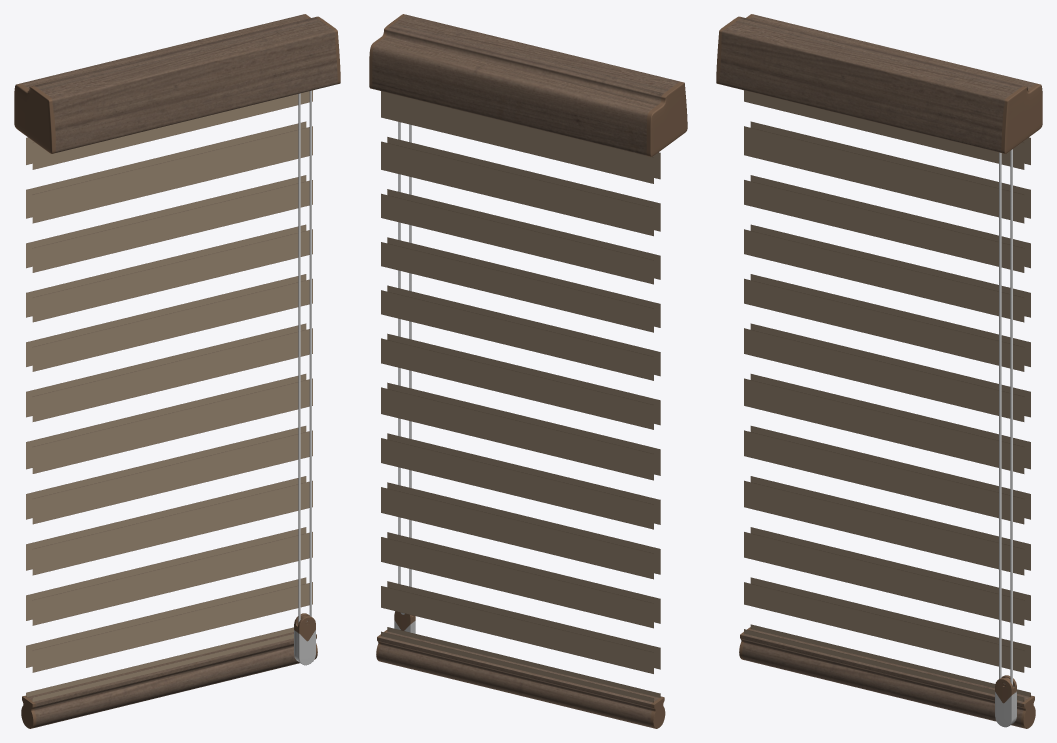
File: curtain_02_15.001.fbx
The picture shows the model from 3 angles, left to right: view 1: azimuth 30°, elevation 25°; view 2: azimuth 150°, elevation 25°; view 3: azimuth 330°, elevation 25°; orthographic projection. The views are drawn at different scales.
Visible parts, largest first — view 1: curtain_02_15.001; view 2: curtain_02_15.001; view 3: curtain_02_15.001.
Part boxes in pixels (left/top/right/bottom): curtain_02_15.001: left=14, top=14, right=340, bottom=728; curtain_02_15.001: left=369, top=14, right=687, bottom=728; curtain_02_15.001: left=716, top=14, right=1042, bottom=728.
Bounding box in the file's own units: 51.11 × 109 × 11.73.
1 material, 1 textured.
